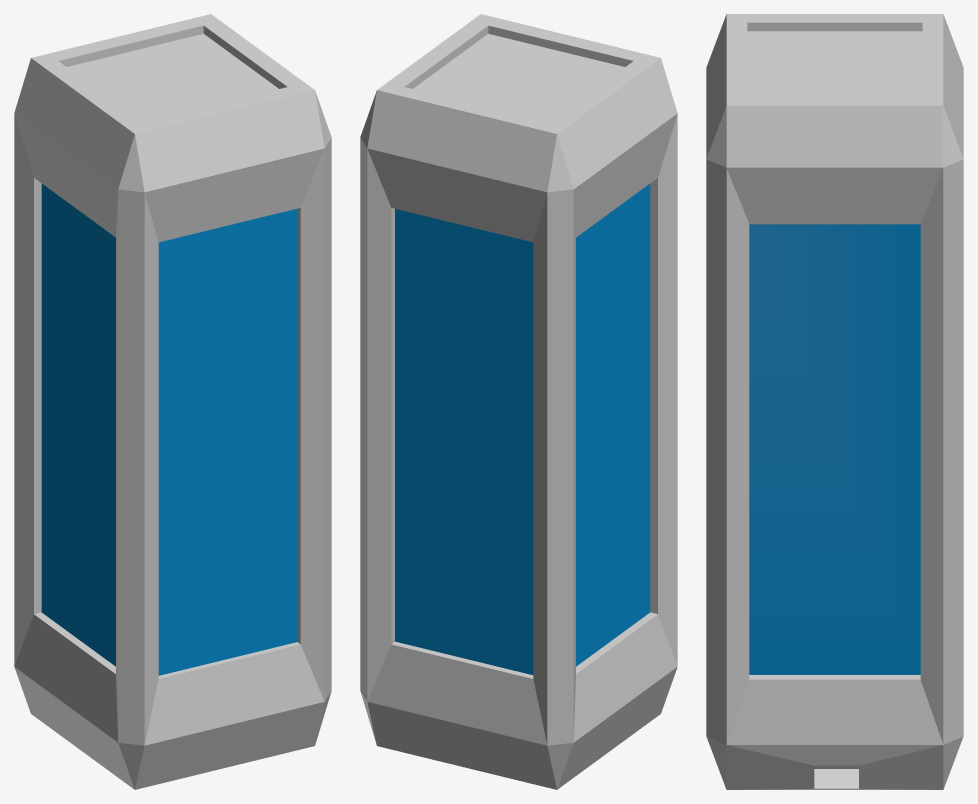
File: Skyscraper(35).fbx
The picture shows the model from 3 angles, left to right: view 1: azimuth 30°, elevation 25°; view 2: azimuth 150°, elevation 25°; view 3: azimuth 270°, elevation 25°; orthographic projection. The views are drawn at different scales.
Parts seen in each view (by area): view 1: Cube; view 2: Cube; view 3: Cube.
Part boxes in pixels (<box>): Cube: <box>14,14,331,789</box>; Cube: <box>360,14,677,789</box>; Cube: <box>706,14,963,789</box>.
Size of the model in its own units: 11.97 by 35.15 by 11.97.
